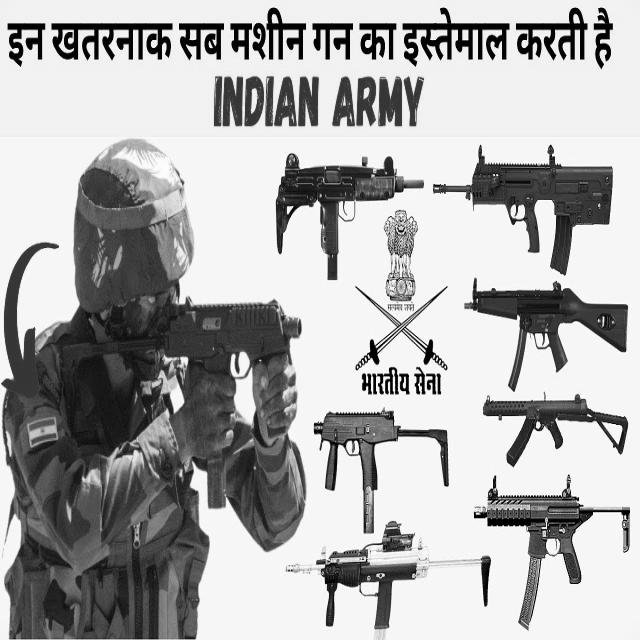Sub-machine-gun: (53, 305, 299, 497), (466, 482, 637, 634), (270, 150, 427, 291), (442, 152, 615, 276), (312, 400, 453, 532), (458, 281, 629, 383), (286, 546, 499, 624), (475, 390, 631, 472)
